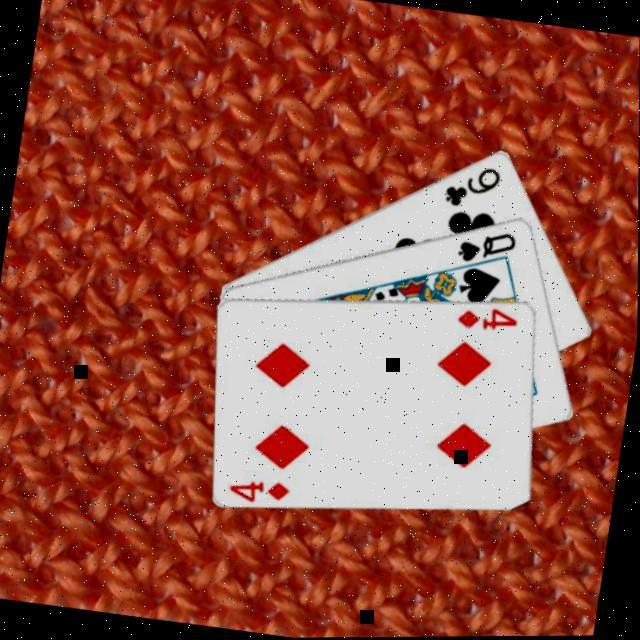4D: (227, 474, 296, 511), (456, 303, 524, 340)
9C: (441, 160, 507, 218)
QS: (454, 225, 523, 274)
